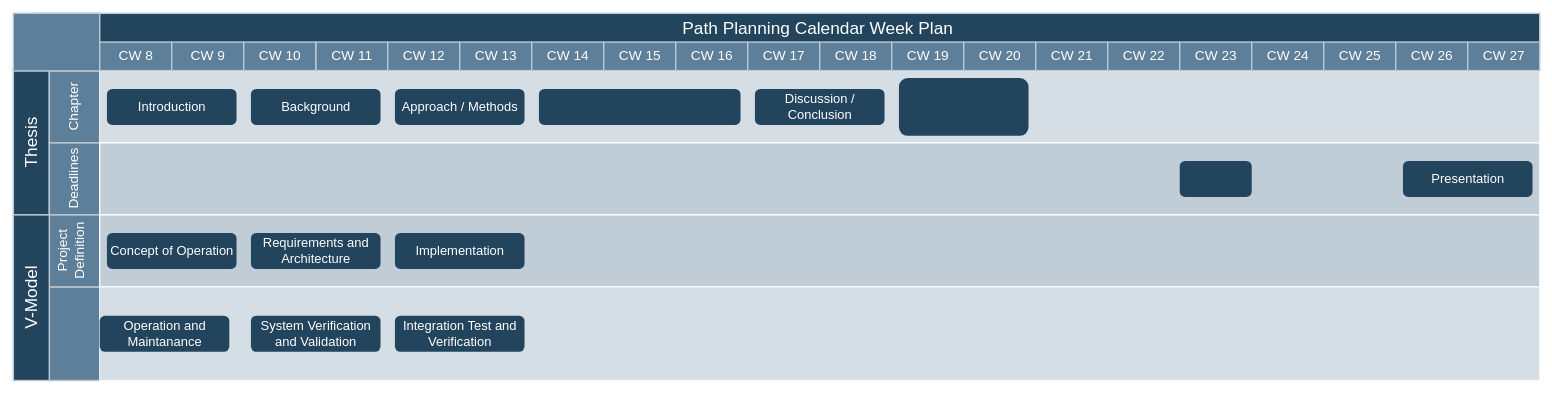
Some shapes in this 1552 by 393 pixel diagram are drawn without their labels. Each missing label, with the centre of its shape:
"Abstract / Zusammenfassung / Preface" belongs at [963,106].
"Project Test and Integration" belongs at [74,333].
"Results" belongs at [639,107].
"Submission" belongs at [1215,179].
"v 1.0" belongs at [56,41].
